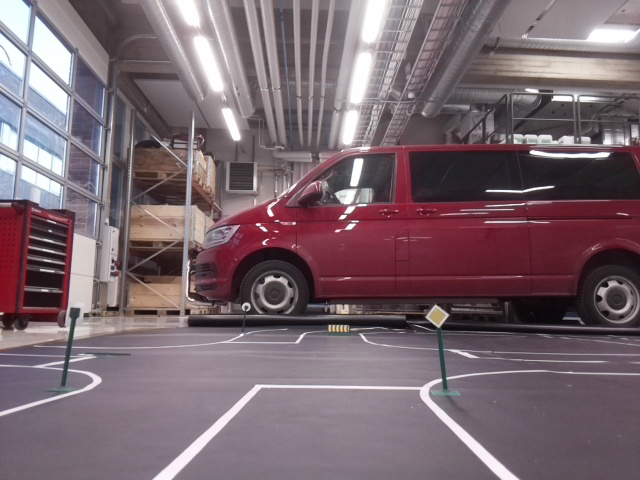Priority: (425, 302, 448, 325)
